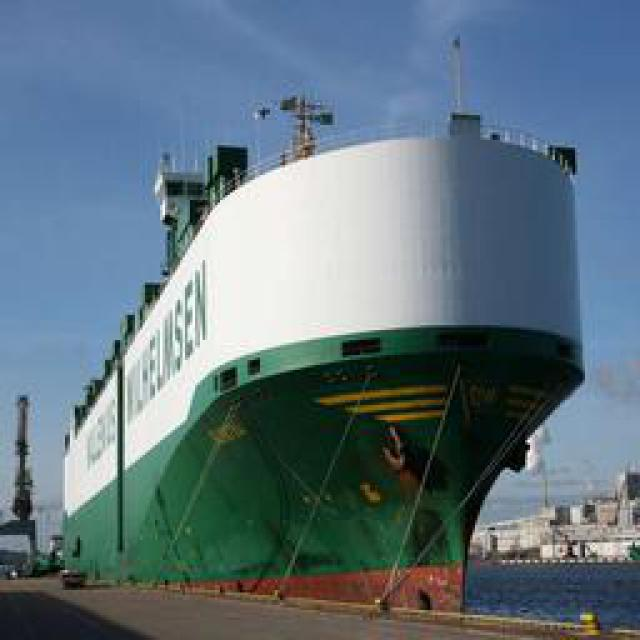Ship: (43, 25, 596, 624)
